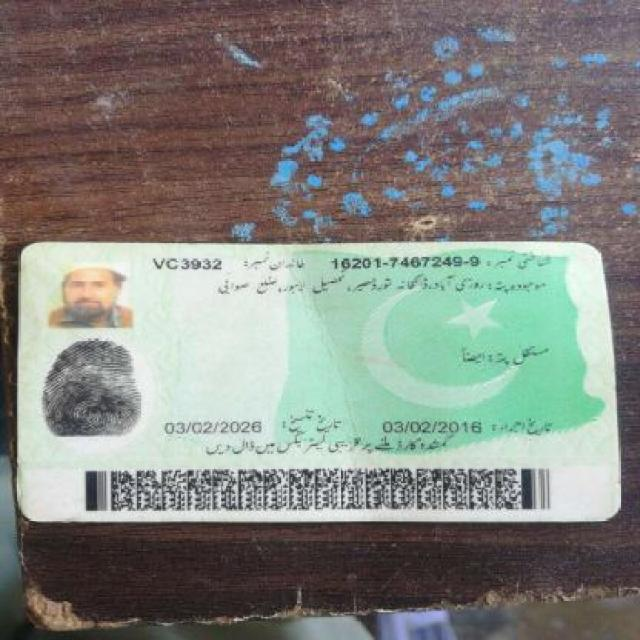Back: (12, 231, 623, 526)
